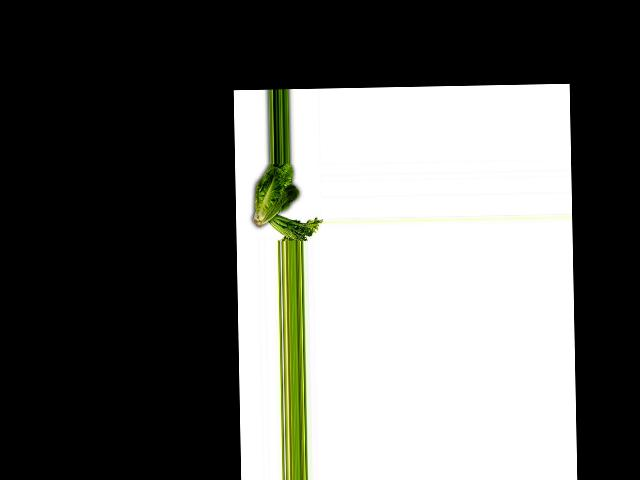lettuce: (254, 162, 304, 229)
